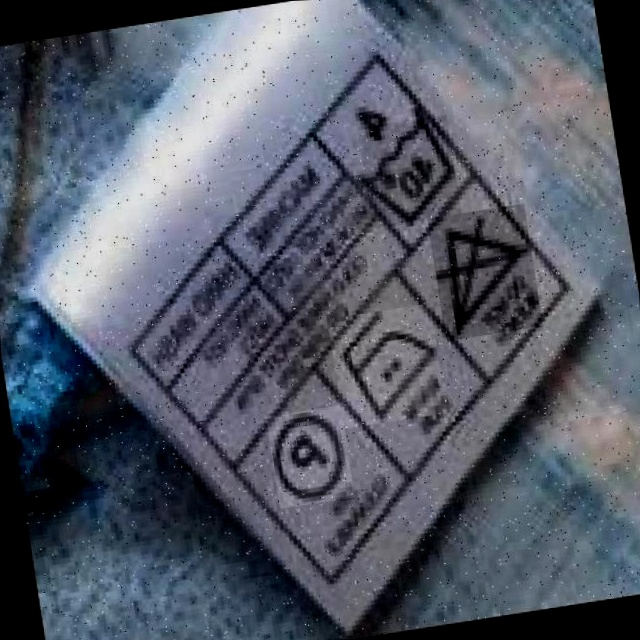40C: (353, 126, 459, 223)
DN_bleach: (430, 215, 529, 327)
dry_clean_any_solvent_except_trichloroethylene: (270, 414, 349, 506)
iron_medium: (336, 311, 438, 414)
